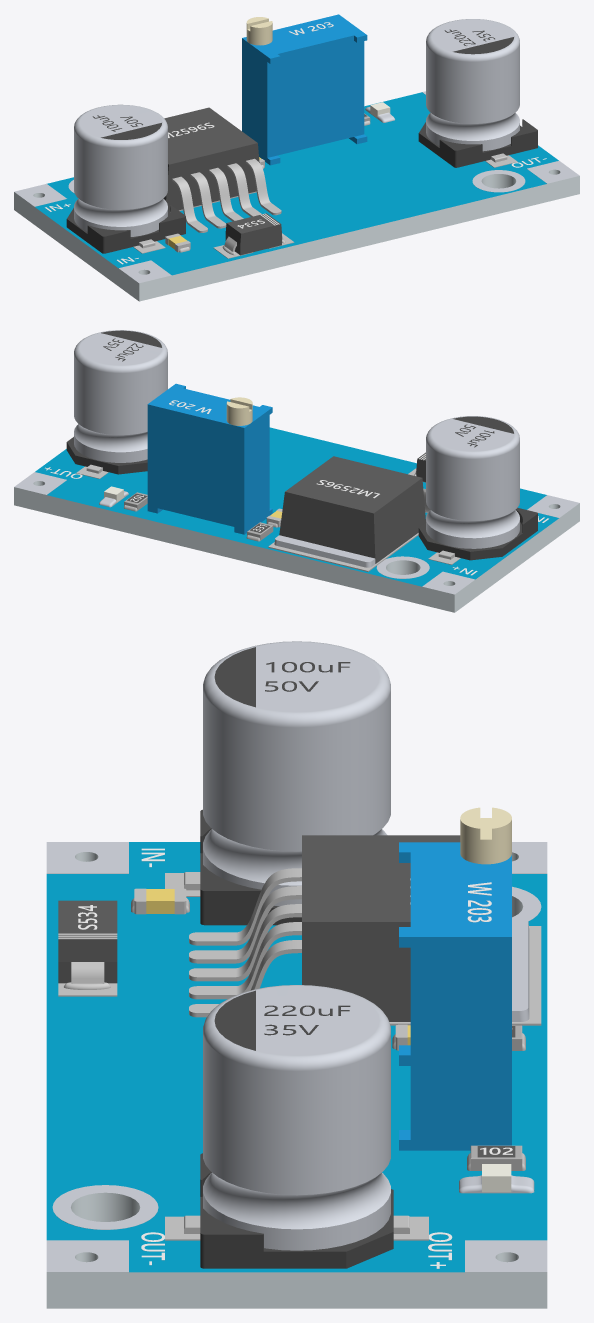
File: Buck.fbx
3 views of the same model, one above another, from view 1: azimuth 30°, elevation 25°; view 2: azimuth 150°, elevation 25°; view 3: azimuth 270°, elevation 25° (orthographic). The views are drawn at different scales.
Parts seen in each view (by area): view 1: Buck; view 2: Buck; view 3: Buck.
Part boxes in pixels (left/top/right/bottom): Buck: left=14, top=14, right=579, bottom=301; Buck: left=14, top=330, right=579, bottom=612; Buck: left=46, top=641, right=547, bottom=1308.
Bounding box in the file's own units: 432 × 152 × 213.
